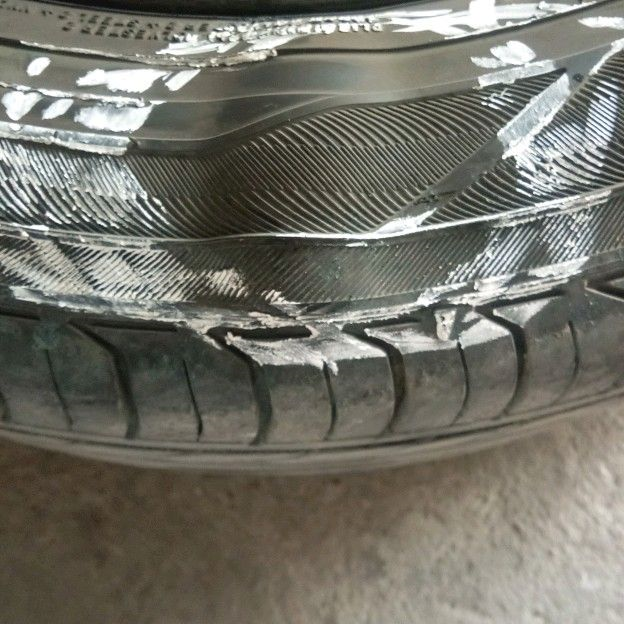CBU: (199, 39, 426, 252)
